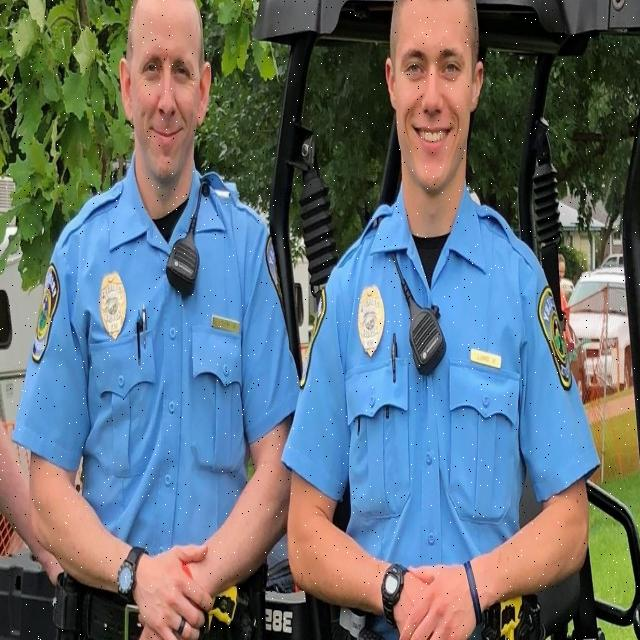police: (312, 0, 590, 640), (36, 0, 290, 640)
